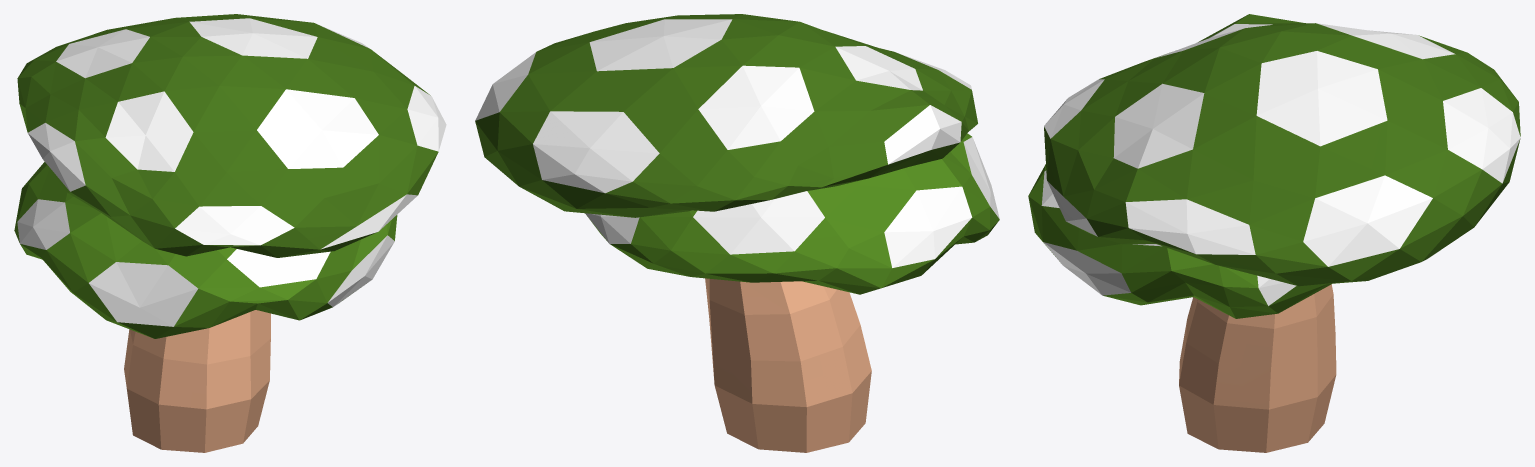
File: shrooms.glb
The picture shows the model from 3 angles, left to right: view 1: azimuth 30°, elevation 25°; view 2: azimuth 150°, elevation 25°; view 3: azimuth 270°, elevation 25°; orthographic projection. The views are drawn at different scales.
Visible parts, largest first — view 1: PP_Fly_Agaric_04, PP_Fly_Agaric_06; view 2: PP_Fly_Agaric_04, PP_Fly_Agaric_06; view 3: PP_Fly_Agaric_04, PP_Fly_Agaric_06.
Boxes of the visible parts, left/top/right/bottom form: PP_Fly_Agaric_04: left=17, top=14, right=446, bottom=452; PP_Fly_Agaric_06: left=14, top=162, right=397, bottom=338; PP_Fly_Agaric_04: left=475, top=14, right=977, bottom=452; PP_Fly_Agaric_06: left=585, top=133, right=999, bottom=294; PP_Fly_Agaric_04: left=1044, top=14, right=1520, bottom=452; PP_Fly_Agaric_06: left=1028, top=164, right=1331, bottom=318.
Bounding box in the file's own units: 0.5244 × 0.4541 × 0.5156.
Materials: 4 (4 with a texture image).
